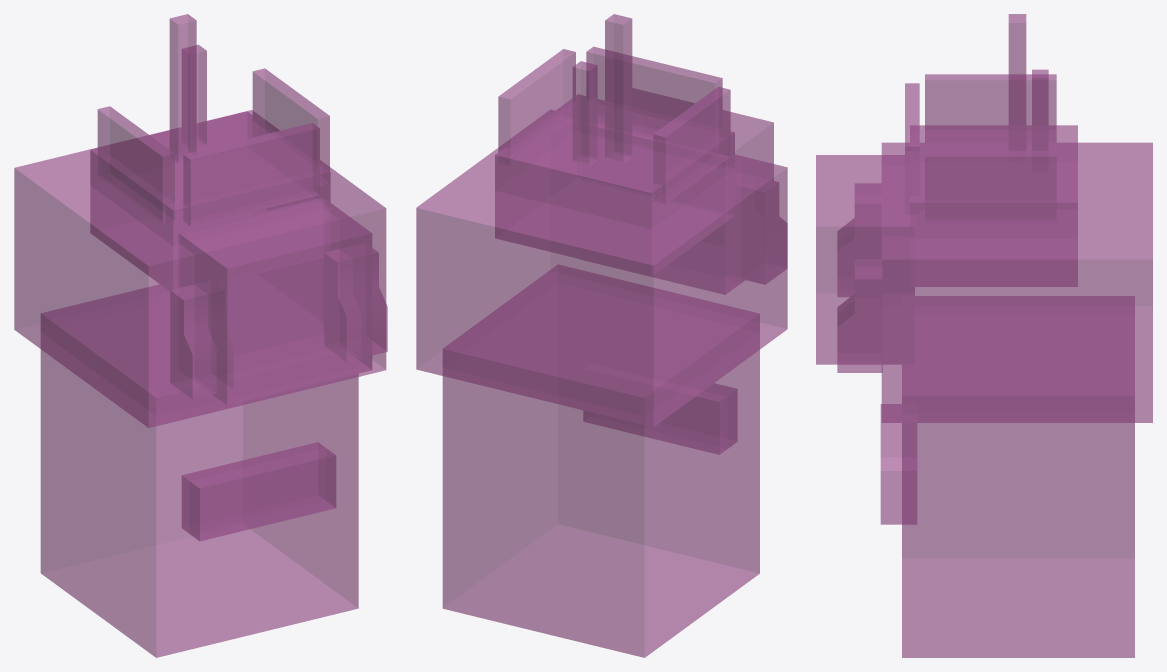
The model's file is SM_Bld_Background_Building_02_Collision.fbx.
3 renders of one model, left to right at view 1: azimuth 30°, elevation 25°; view 2: azimuth 150°, elevation 25°; view 3: azimuth 270°, elevation 25°, orthographic.
Visible parts, largest first — view 1: SM_Bld_Background_Building_02_Collision; view 2: SM_Bld_Background_Building_02_Collision; view 3: SM_Bld_Background_Building_02_Collision.
Boxes of the visible parts, bbox=[...] form: SM_Bld_Background_Building_02_Collision: bbox=[14, 14, 387, 657]; SM_Bld_Background_Building_02_Collision: bbox=[416, 14, 787, 657]; SM_Bld_Background_Building_02_Collision: bbox=[816, 14, 1152, 657].
Bounding box in the file's own units: 2435 × 5641 × 2961.
